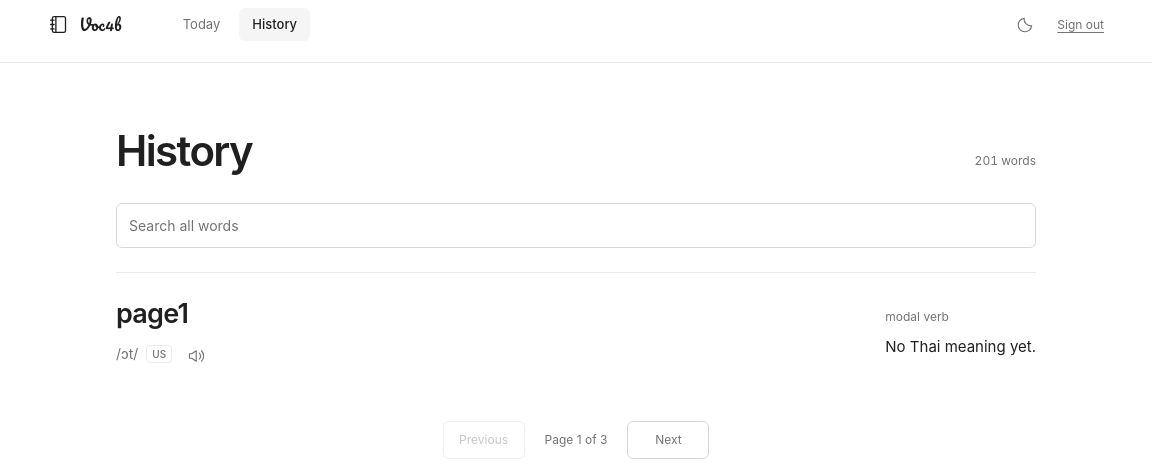
Test: prefetches the next History page and reuses cached pages
This screenshot has width=1152, height=476.
Expected: the heading "page1" is shown, [116,297,188,330]
Click the button "Next": {"x": 668, "y": 440} [627,421,709,459]
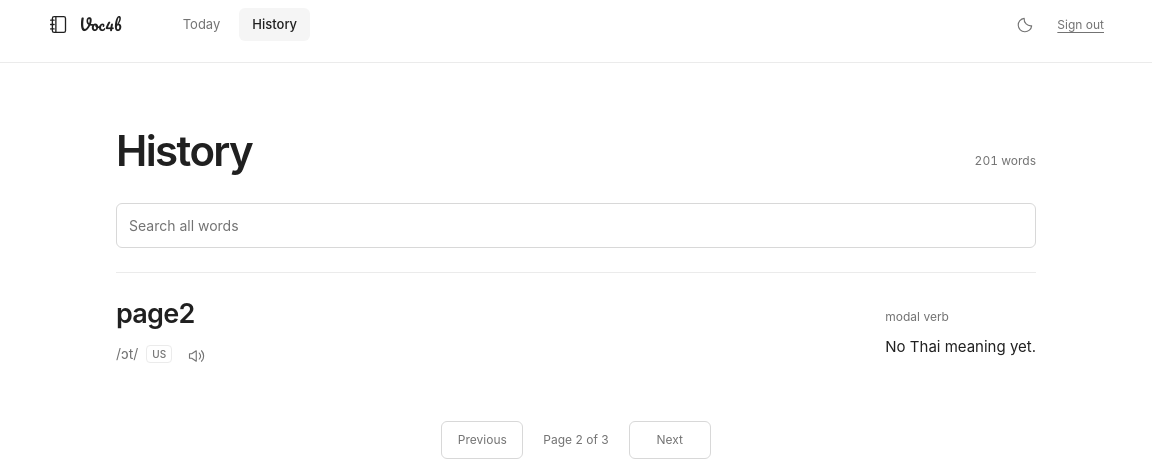
Result: the heading "page2" is shown at [116,297,194,330]
Click the button "Previous": {"x": 482, "y": 440} [441,421,523,459]
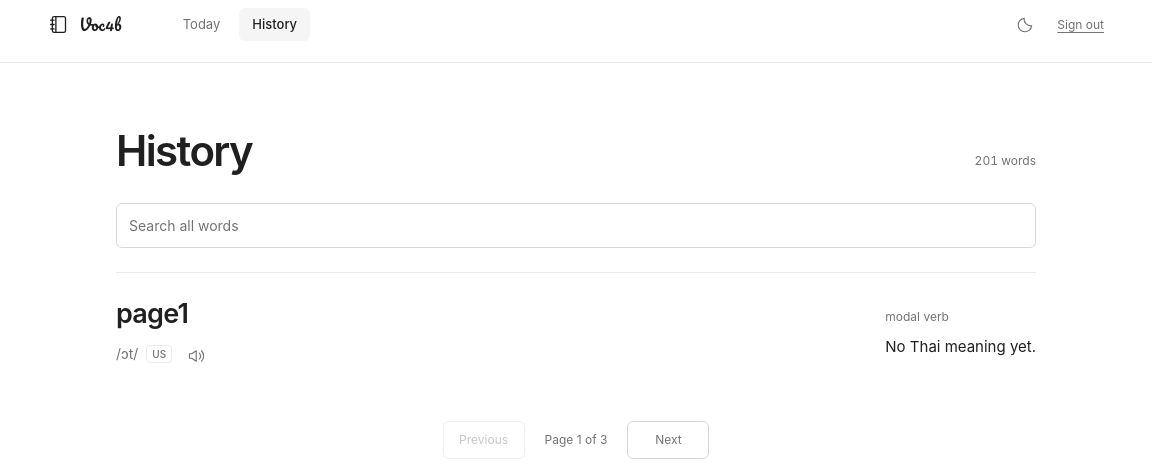
Result: the heading "page1" is shown at [116,297,188,330]
